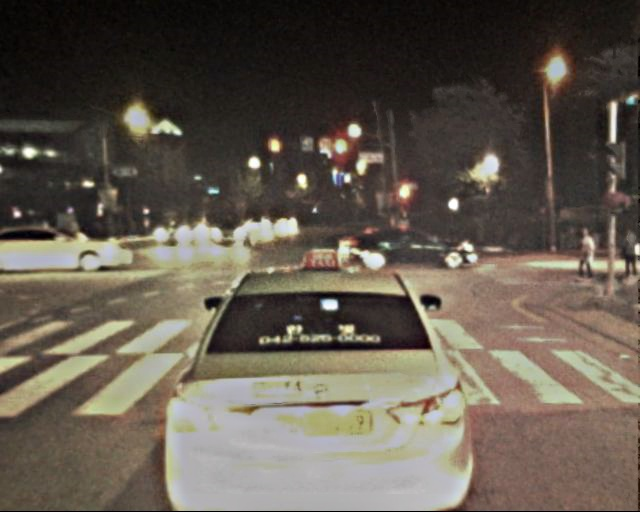person: (573, 227, 598, 289), (617, 227, 639, 285)
